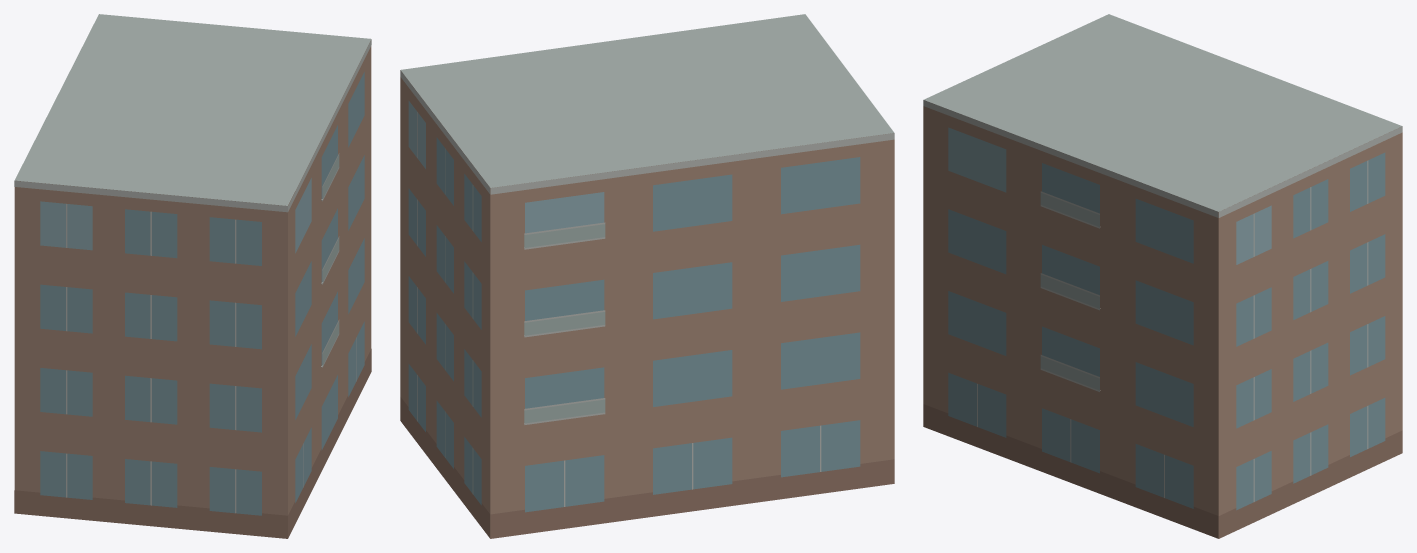
The model's file is survey-upis-32883692.glb.
The picture shows the model from 3 angles, left to right: view 1: azimuth 30°, elevation 25°; view 2: azimuth 150°, elevation 25°; view 3: azimuth 270°, elevation 25°; orthographic projection. The views are drawn at different scales.
Parts seen in each view (by area): view 1: survey-upis-32883692.tmp; view 2: survey-upis-32883692.tmp; view 3: survey-upis-32883692.tmp.
Boxes of the visible parts, x1,y1,x2,y2 form: survey-upis-32883692.tmp: [14, 14, 371, 538]; survey-upis-32883692.tmp: [400, 14, 894, 538]; survey-upis-32883692.tmp: [923, 14, 1402, 538].
Bounding box in the file's own units: 16.62 × 12.8 × 17.01.
